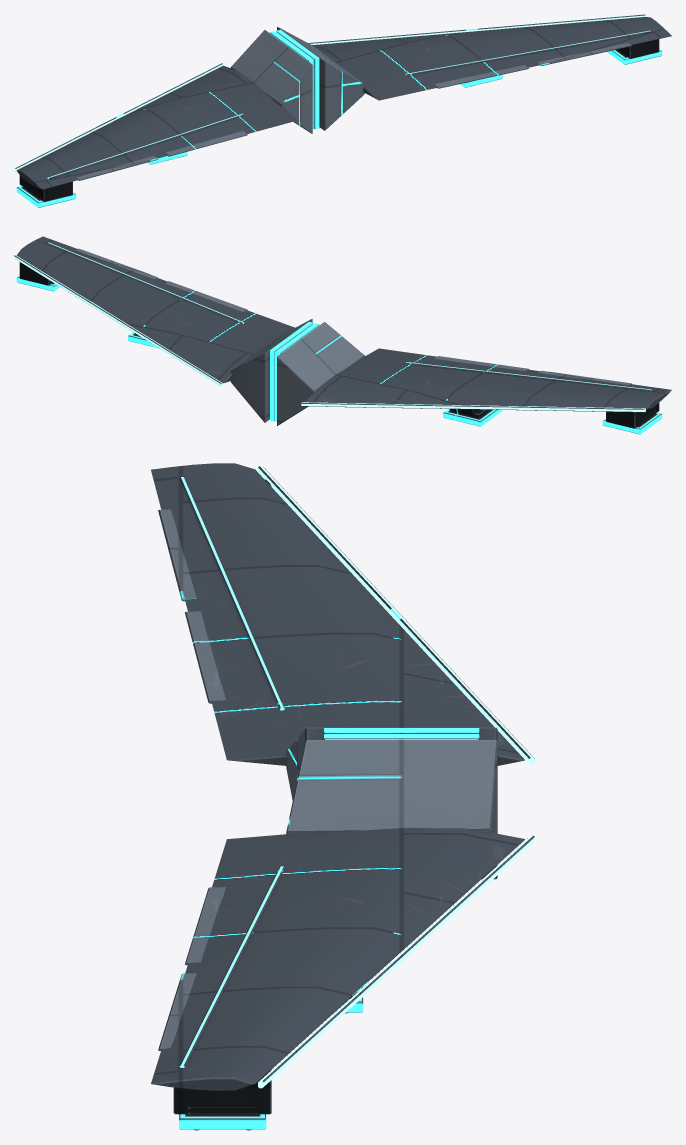
The model's file is ala_media_t3.fbx.
3 renders of one model, top to bottom at view 1: azimuth 30°, elevation 25°; view 2: azimuth 150°, elevation 25°; view 3: azimuth 270°, elevation 25°, orthographic. The views are drawn at different scales.
Parts seen in each view (by area): view 1: ala_media_t3_izq, ala_media_t3_der, ala_media_t3_der_neon, ala_media_t3_izq_neon, ala_media_t3_der_neon2; view 2: ala_media_t3_izq, ala_media_t3_der, ala_media_t3_izq_neon, ala_media_t3_der_neon, ala_media_t3_izq_neon2; view 3: ala_media_t3_der, ala_media_t3_izq, ala_media_t3_izq_neon, ala_media_t3_der_neon.
Part boxes in pixels (box(x1,y1,x2,y2)): ala_media_t3_izq: box(15, 30, 313, 207); ala_media_t3_der: box(276, 14, 671, 130); ala_media_t3_der_neon: box(308, 14, 645, 44); ala_media_t3_izq_neon: box(14, 62, 222, 171); ala_media_t3_der_neon2: box(405, 30, 650, 75); ala_media_t3_izq: box(276, 322, 671, 434); ala_media_t3_der: box(14, 236, 313, 422); ala_media_t3_izq_neon: box(301, 402, 645, 411); ala_media_t3_der_neon: box(14, 254, 222, 386); ala_media_t3_izq_neon2: box(406, 362, 651, 390); ala_media_t3_der: box(151, 734, 534, 1130); ala_media_t3_izq: box(151, 463, 534, 800); ala_media_t3_izq_neon: box(258, 466, 534, 764); ala_media_t3_der_neon: box(258, 835, 534, 1088).
Size of the model in its own units: 15 by 1.6 by 3.96.
